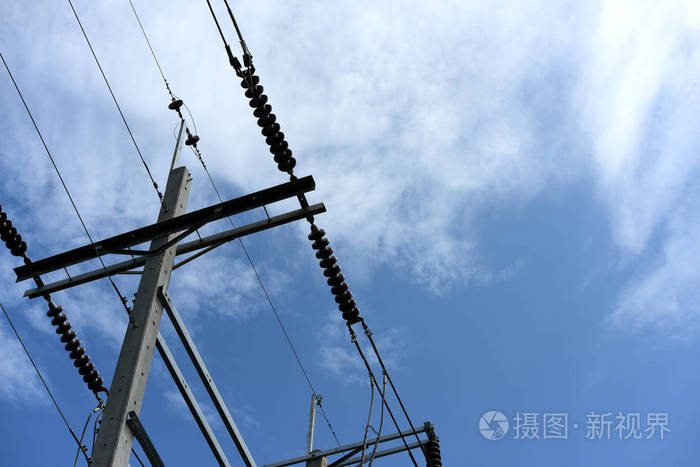insulator: (239, 67, 297, 172), (47, 305, 104, 391), (310, 227, 362, 320), (1, 209, 29, 255)
